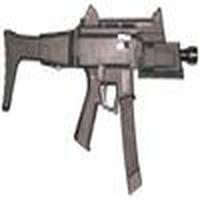gun: (1, 12, 198, 121)
